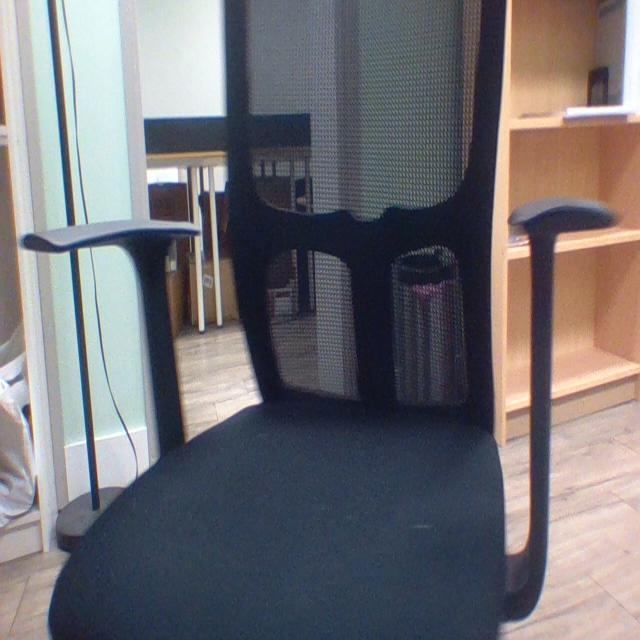chair: (37, 4, 617, 640)
